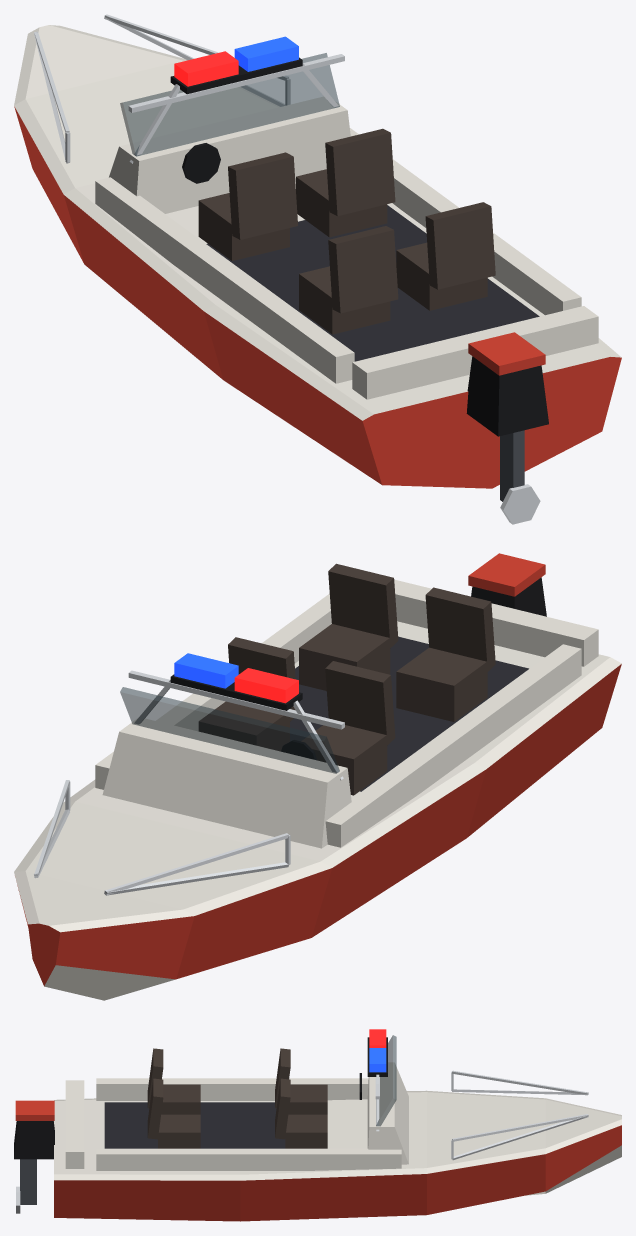
The model's file is policeboat.glb.
3 views of the same model, one above another, from view 1: azimuth 30°, elevation 25°; view 2: azimuth 150°, elevation 25°; view 3: azimuth 270°, elevation 25° (orthographic). The views are drawn at different scales.
Parts seen in each view (by area): view 1: policeboat; view 2: policeboat; view 3: policeboat.
Part boxes in pixels (bbox=[...]): policeboat: bbox=[14, 14, 621, 524]; policeboat: bbox=[14, 553, 621, 1000]; policeboat: bbox=[14, 1029, 621, 1221].
Size of the model in its own units: 2.44 by 2.13 by 7.17.
